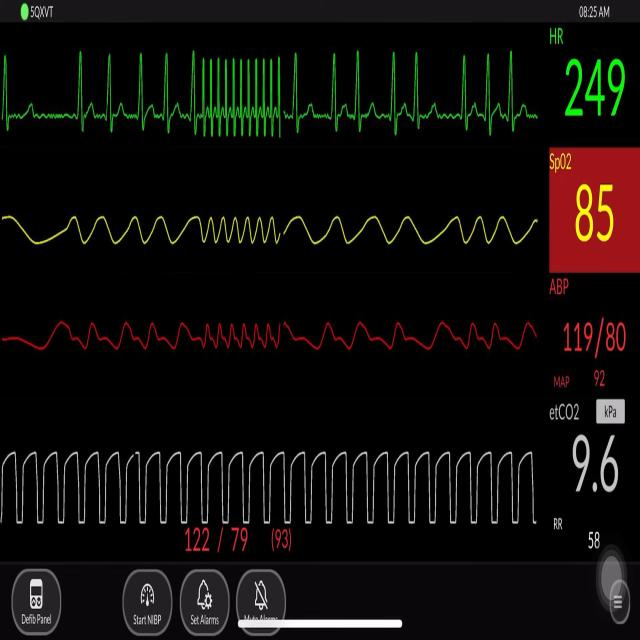danger: (190, 38, 285, 144)
